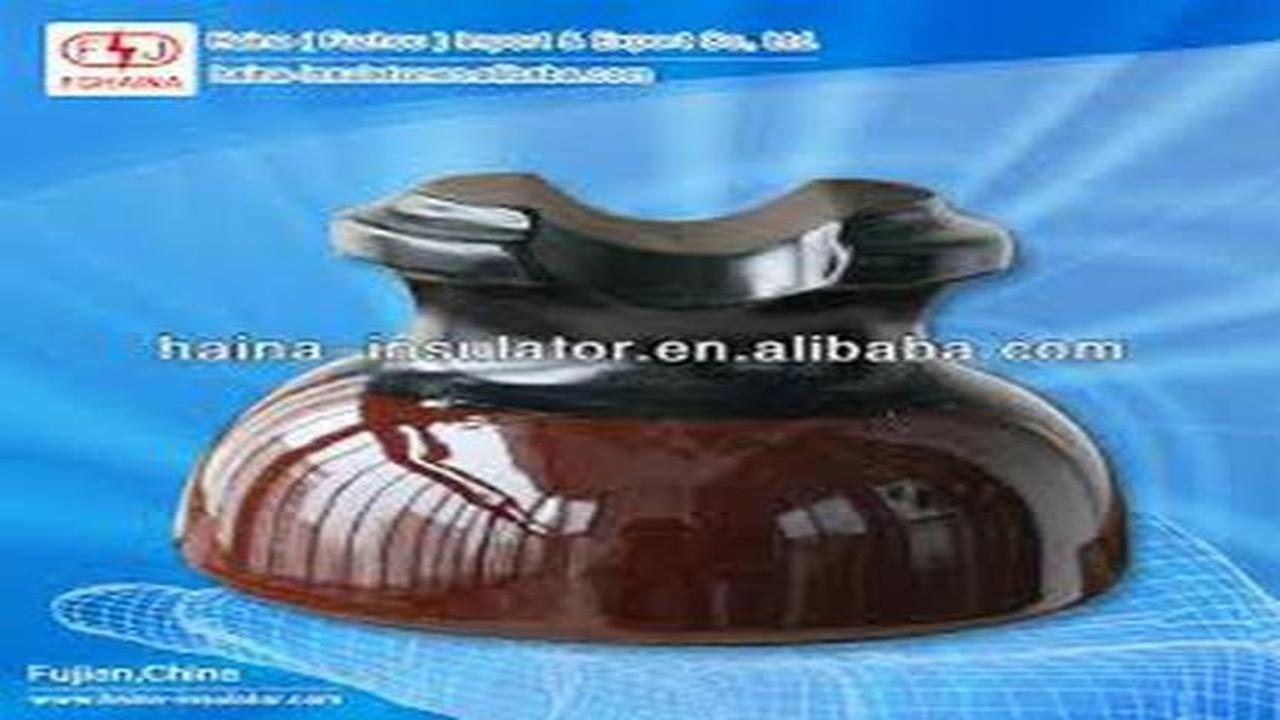insulator_pin: (151, 156, 1161, 639)
